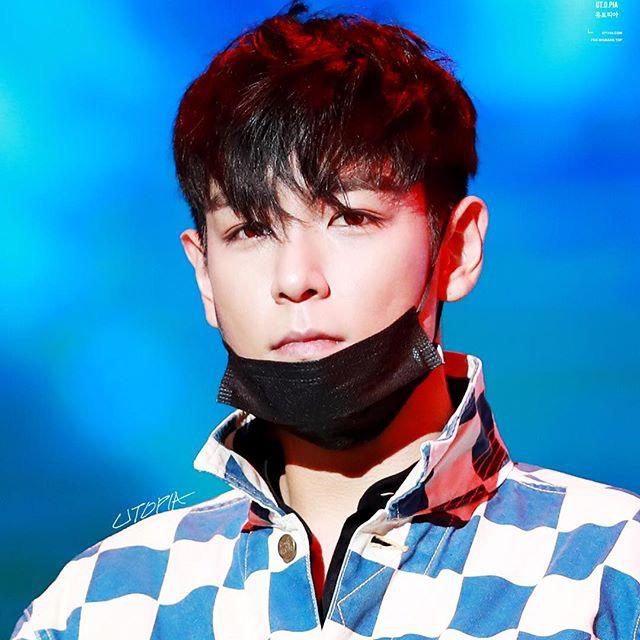WRONG: (199, 168, 463, 432)
